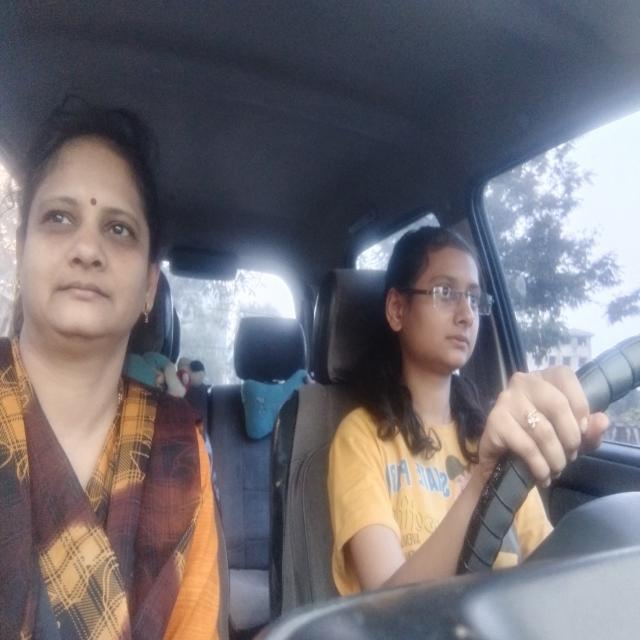person: (16, 122, 163, 344), (391, 225, 488, 371)
